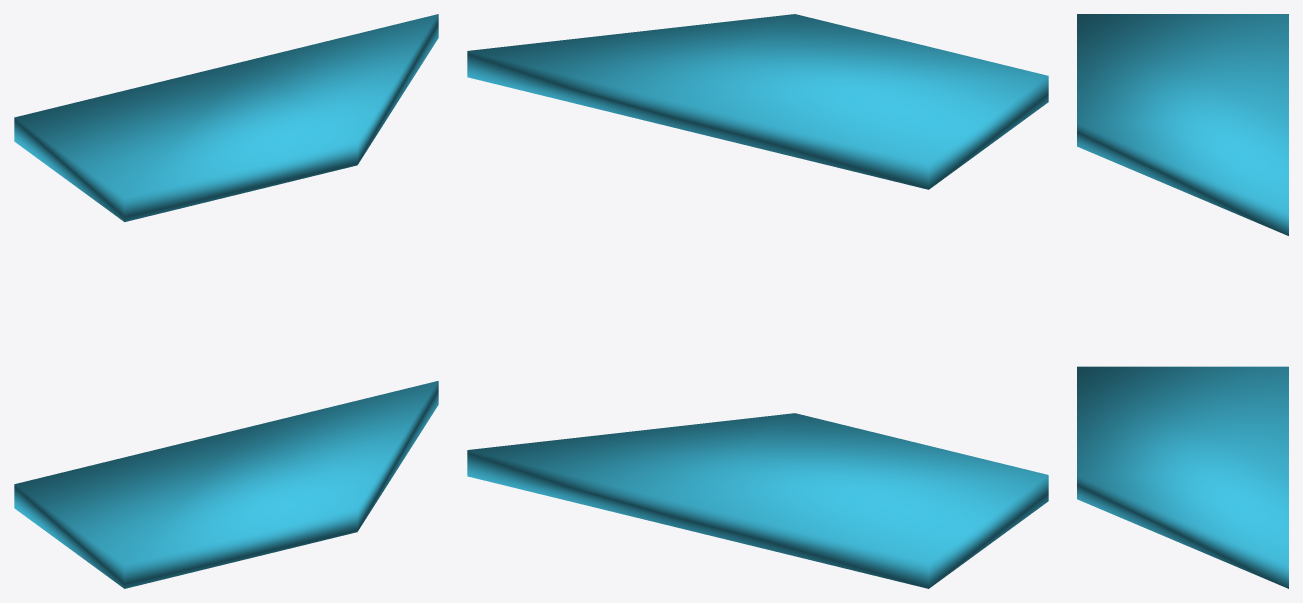
The model's file is machine5_part2_glass2.fbx.
3 renders of one model, left to right at view 1: azimuth 30°, elevation 25°; view 2: azimuth 150°, elevation 25°; view 3: azimuth 270°, elevation 25°, orthographic. The views are drawn at different scales.
Visible parts, largest first — view 1: Plane_003; view 2: Plane_003; view 3: Plane_003.
Boxes of the visible parts, x1,y1,x2,y2 form: Plane_003: (14,14,438,588); Plane_003: (467,14,1048,588); Plane_003: (1077,14,1288,588).
Size of the model in its own units: 6.05 by 5.33 by 2.72.
1 material, 1 textured.
